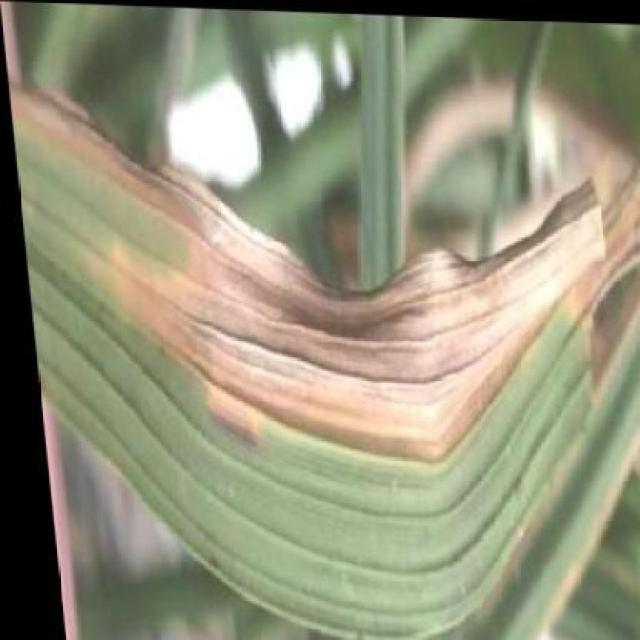Brown_Spot: (3, 0, 640, 588)
